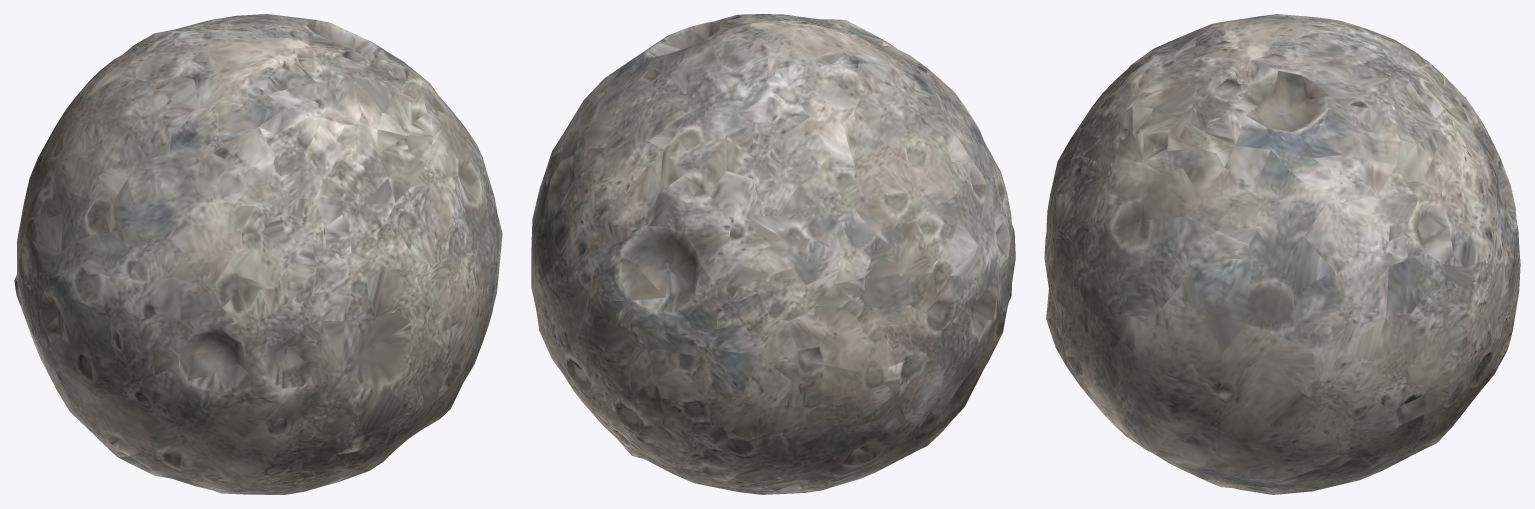
The model's file is moon_02.glb.
The picture shows the model from 3 angles, left to right: view 1: azimuth 30°, elevation 25°; view 2: azimuth 150°, elevation 25°; view 3: azimuth 270°, elevation 25°; orthographic projection.
Visible parts, largest first — view 1: Mesh_0; view 2: Mesh_0; view 3: Mesh_0.
Part boxes in pixels (bbox=[...]): Mesh_0: bbox=[14, 14, 502, 494]; Mesh_0: bbox=[531, 14, 1015, 494]; Mesh_0: bbox=[1044, 14, 1520, 494].
Size of the model in its own units: 1.89 by 1.9 by 1.87.
1 material, 1 textured.
